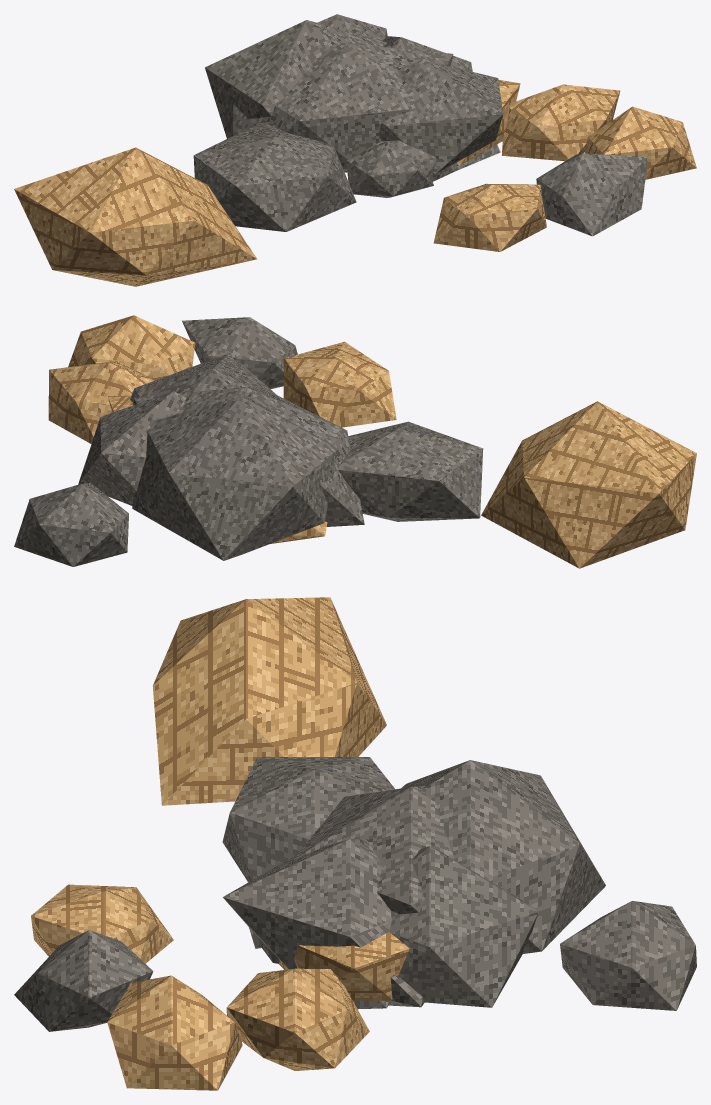
Rendered from rubble_sand.glb.
The picture shows the model from 3 angles, top to bottom: view 1: azimuth 30°, elevation 25°; view 2: azimuth 150°, elevation 25°; view 3: azimuth 270°, elevation 25°; orthographic projection. The views are drawn at different scales.
Visible parts, largest first — view 1: Body.004; view 2: Body.004; view 3: Body.004.
Part boxes in pixels (x1=…): Body.004: x1=14, y1=14, x2=696, y2=286; Body.004: x1=14, y1=315, x2=696, y2=568; Body.004: x1=14, y1=597, x2=696, y2=1090.
Size of the model in its own units: 2.64 by 0.624 by 1.92.
2 materials, 2 textured.
